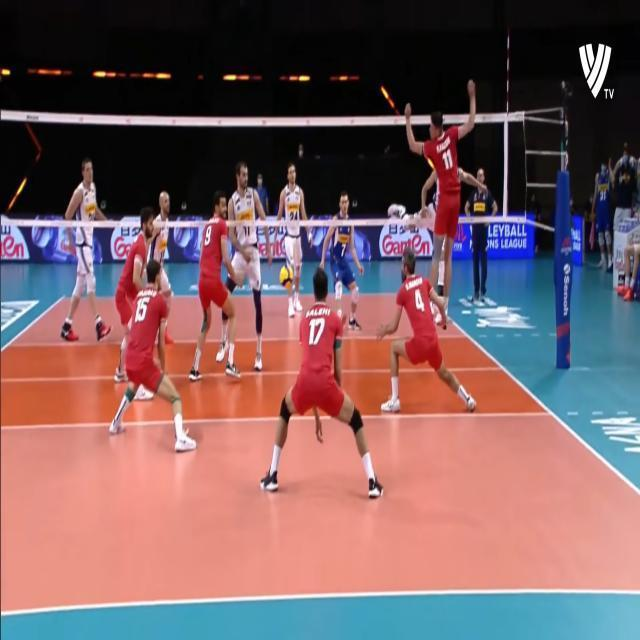volleyball: (279, 265, 294, 288)
